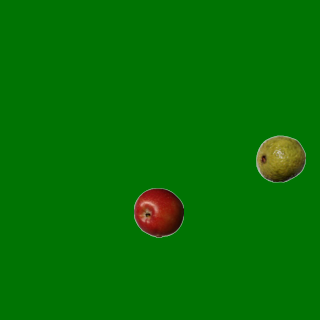Apple Braeburn: (133, 187, 183, 237)
Guava: (255, 133, 305, 183)
